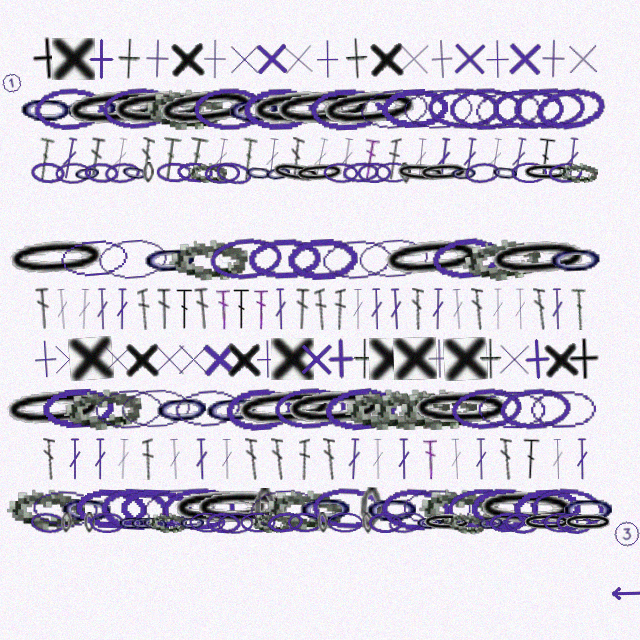chain: (152, 82, 261, 135), (316, 83, 424, 135), (378, 233, 486, 284), (61, 84, 169, 134), (231, 384, 339, 434), (3, 234, 110, 283), (107, 85, 214, 133), (246, 85, 353, 133), (270, 85, 377, 133), (485, 235, 592, 283), (0, 385, 107, 433), (281, 385, 388, 432), (474, 487, 580, 531), (169, 487, 274, 530), (191, 487, 296, 530), (409, 388, 514, 430), (460, 233, 543, 285), (62, 384, 143, 433), (533, 83, 609, 135), (344, 385, 424, 432), (371, 385, 451, 432), (398, 385, 478, 432), (322, 384, 398, 433), (356, 84, 431, 133), (430, 234, 504, 283), (208, 235, 283, 283), (95, 235, 171, 282), (419, 486, 498, 531), (449, 385, 523, 433), (101, 85, 176, 132), (56, 235, 131, 282), (530, 486, 606, 532), (356, 235, 430, 282), (171, 385, 245, 432), (169, 237, 248, 281), (265, 487, 344, 531), (319, 236, 394, 282), (498, 386, 573, 432), (144, 87, 223, 130), (512, 86, 587, 131), (273, 386, 348, 431), (471, 86, 544, 132), (29, 486, 102, 532), (7, 487, 85, 530), (92, 386, 166, 431), (119, 386, 193, 431), (142, 486, 216, 531), (311, 486, 385, 531), (224, 386, 296, 432), (33, 86, 106, 131), (401, 86, 474, 131), (41, 386, 114, 431), (162, 486, 235, 531), (309, 87, 383, 131), (247, 237, 321, 281), (379, 86, 451, 131), (286, 236, 358, 281), (99, 486, 171, 531), (74, 487, 147, 531), (119, 487, 192, 531), (248, 487, 321, 531), (449, 87, 523, 130), (380, 487, 452, 531), (193, 87, 266, 130), (242, 87, 315, 130), (512, 487, 583, 531), (427, 87, 499, 130), (492, 88, 565, 130), (527, 387, 598, 430), (401, 487, 472, 530), (475, 388, 547, 430), (447, 488, 519, 530), (470, 487, 540, 530), (201, 385, 263, 432), (223, 86, 285, 132), (62, 86, 123, 131), (152, 386, 213, 431), (140, 237, 201, 281), (546, 237, 606, 281), (57, 487, 117, 531), (296, 487, 356, 530), (17, 88, 76, 130), (363, 488, 422, 530), (559, 488, 618, 530), (269, 159, 323, 187), (293, 161, 346, 185), (394, 161, 447, 185), (417, 161, 470, 184), (214, 159, 253, 187), (521, 162, 573, 183), (421, 512, 473, 533), (521, 512, 573, 533), (562, 512, 614, 533), (387, 509, 426, 536), (359, 487, 383, 530), (446, 511, 486, 535), (266, 510, 304, 535), (254, 488, 276, 530), (29, 511, 67, 535), (104, 161, 141, 185), (464, 161, 501, 185), (503, 511, 540, 535), (555, 511, 592, 535), (176, 161, 213, 184), (342, 161, 379, 184), (488, 511, 525, 534), (30, 161, 66, 184), (205, 511, 241, 534), (188, 162, 227, 183), (559, 162, 598, 183), (148, 512, 187, 533), (251, 512, 290, 533), (217, 512, 254, 534), (119, 160, 151, 185), (55, 162, 91, 184), (204, 162, 240, 184), (84, 162, 119, 184), (323, 162, 358, 184), (548, 162, 583, 184), (156, 162, 192, 183), (375, 162, 411, 183), (511, 162, 547, 183), (89, 512, 125, 533), (189, 512, 225, 533), (240, 512, 276, 533), (287, 512, 323, 533), (327, 512, 363, 533), (543, 512, 579, 533), (72, 161, 103, 185), (263, 161, 294, 185), (140, 511, 171, 535), (357, 162, 392, 183), (368, 512, 403, 533), (490, 161, 521, 184), (244, 161, 274, 184), (476, 511, 506, 534), (449, 162, 479, 184), (117, 512, 146, 533), (129, 512, 158, 533), (178, 512, 207, 533), (415, 512, 444, 533), (399, 162, 412, 184), (361, 512, 374, 534), (317, 512, 329, 533), (143, 162, 154, 183), (61, 512, 72, 533), (84, 512, 95, 533)
double: (184, 137, 209, 181), (159, 137, 182, 181), (309, 136, 331, 180), (33, 137, 55, 180), (59, 137, 80, 180), (210, 137, 231, 180), (237, 137, 258, 180), (508, 137, 529, 180), (535, 137, 556, 180), (86, 137, 106, 180), (110, 137, 130, 180), (360, 137, 380, 180), (485, 137, 505, 180), (286, 137, 305, 180), (337, 137, 356, 180), (434, 137, 453, 180), (460, 137, 479, 180), (137, 137, 155, 180), (263, 137, 281, 180), (563, 137, 581, 180), (194, 287, 212, 330), (522, 438, 540, 480), (412, 137, 429, 180), (35, 287, 52, 330), (54, 288, 71, 330), (176, 288, 193, 330), (233, 288, 250, 330), (386, 137, 402, 180), (388, 288, 404, 330), (450, 288, 466, 330), (167, 438, 183, 480), (346, 438, 362, 480), (448, 438, 464, 480), (77, 288, 92, 330), (95, 288, 110, 330), (157, 288, 172, 330), (216, 288, 231, 330), (273, 288, 288, 330), (295, 288, 310, 330), (369, 288, 384, 330), (550, 288, 565, 330), (571, 288, 586, 330), (116, 438, 131, 480), (194, 438, 209, 480), (423, 438, 438, 480), (550, 438, 565, 480), (115, 288, 129, 330), (137, 288, 151, 330), (254, 288, 268, 330), (314, 288, 328, 330), (351, 288, 365, 330), (410, 288, 424, 330), (431, 288, 445, 330), (491, 288, 505, 330), (513, 288, 527, 330), (533, 288, 547, 330), (68, 438, 82, 480), (93, 438, 107, 480), (220, 438, 234, 480), (245, 438, 259, 480), (271, 438, 285, 480), (371, 438, 385, 480), (397, 438, 411, 480), (474, 438, 488, 480), (575, 438, 589, 480), (471, 288, 484, 330), (323, 438, 336, 480), (334, 288, 346, 330), (43, 438, 55, 480), (142, 438, 154, 480), (500, 438, 512, 480), (299, 438, 310, 480)
noise: (612, 519, 640, 548), (0, 70, 25, 96), (609, 587, 640, 600)
single: (68, 336, 114, 381), (443, 337, 488, 381), (276, 37, 320, 81), (420, 37, 464, 81), (23, 337, 67, 381), (197, 337, 241, 381), (515, 337, 559, 381), (393, 337, 437, 380), (136, 37, 179, 80), (250, 37, 293, 80), (392, 37, 435, 80), (448, 37, 491, 80), (503, 37, 546, 80), (532, 37, 575, 80), (561, 37, 604, 80), (319, 337, 362, 380), (418, 337, 461, 380), (52, 38, 95, 80), (271, 338, 314, 380), (369, 338, 412, 380), (541, 337, 582, 381), (80, 38, 122, 80), (194, 38, 236, 80), (223, 38, 265, 80), (306, 38, 348, 80), (476, 38, 518, 80), (48, 338, 90, 380), (96, 338, 138, 380), (148, 338, 190, 380), (172, 338, 214, 380), (246, 338, 288, 380), (295, 338, 337, 380), (493, 338, 535, 380), (168, 37, 208, 80), (367, 37, 407, 80), (123, 338, 162, 380), (225, 338, 264, 380), (30, 37, 64, 80), (567, 338, 600, 380), (345, 37, 369, 80), (118, 38, 141, 80), (354, 338, 376, 380), (480, 338, 502, 380)
